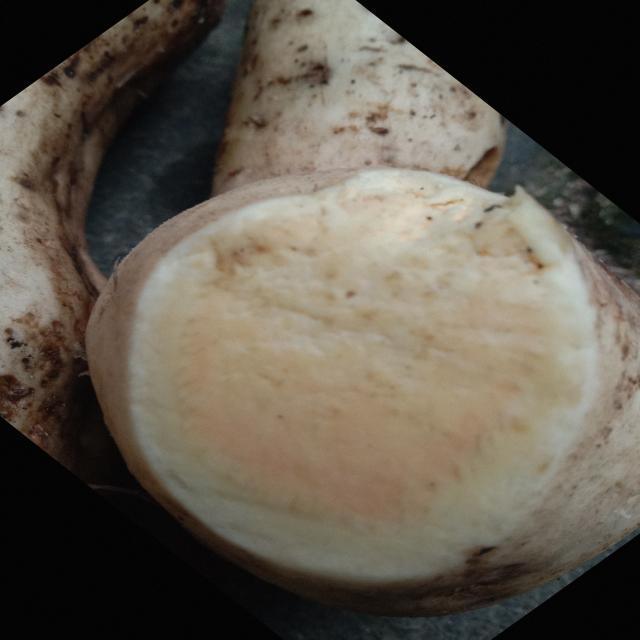Healthy Sweet Potato: (130, 170, 597, 579)
